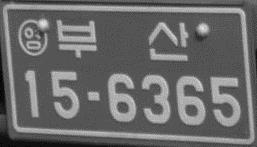-: (85, 89, 102, 104)
1: (21, 68, 43, 120)
3: (140, 72, 172, 126)
5: (208, 74, 242, 128), (48, 68, 81, 120)
6: (174, 74, 208, 126), (106, 71, 137, 122)
부산_D: (54, 17, 189, 63)
영: (16, 18, 48, 58)
